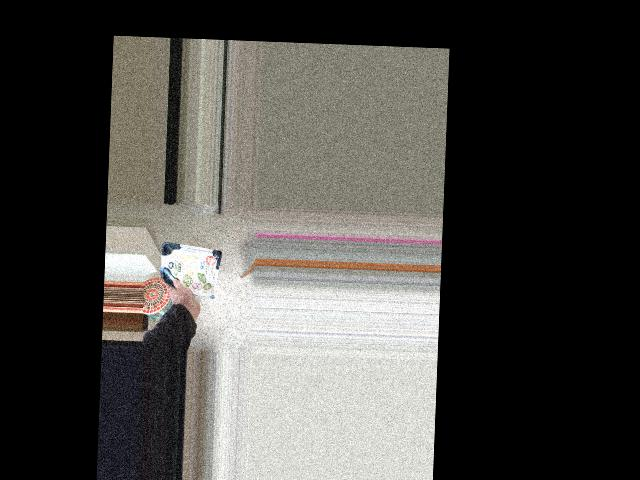cheese: (167, 259, 220, 307)
